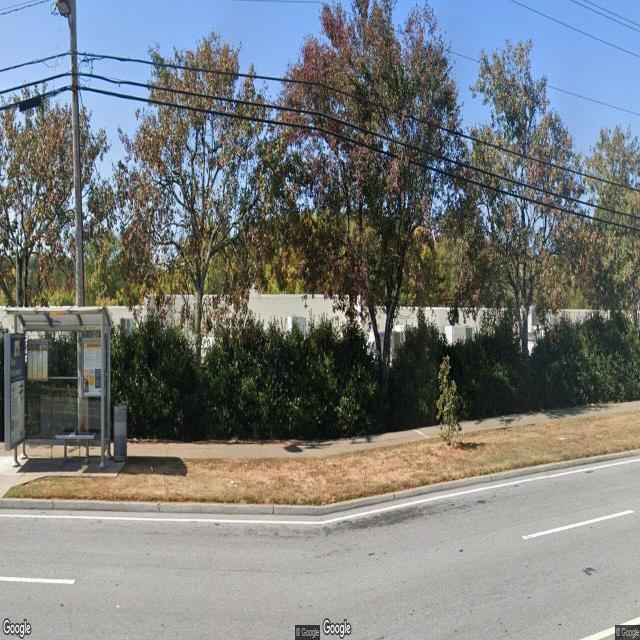seating: (55, 432, 96, 462)
shelter: (0, 304, 114, 468)
trash_can: (114, 405, 128, 462)
